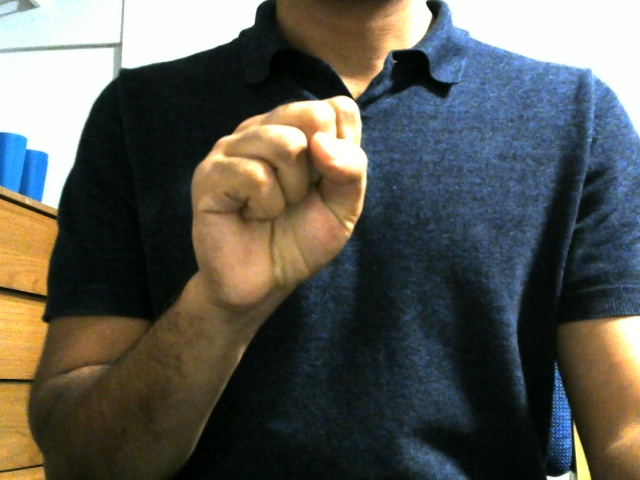S: (186, 87, 371, 306)
